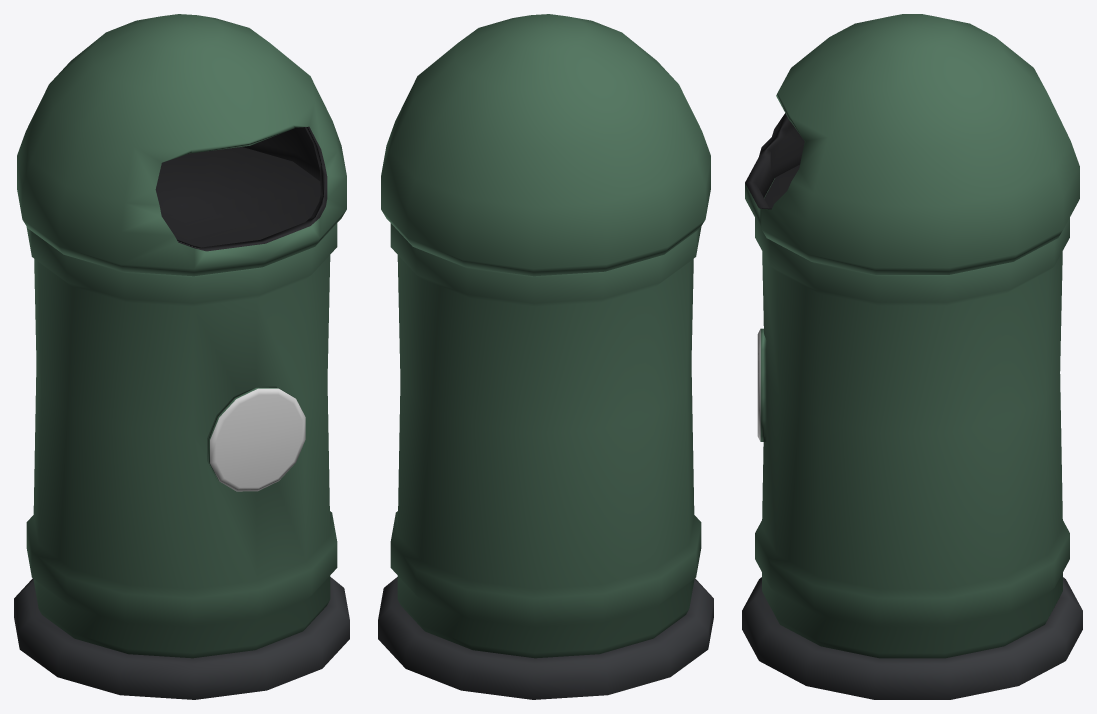
Rendered from Bin.fbx.
The picture shows the model from 3 angles, left to right: view 1: azimuth 30°, elevation 25°; view 2: azimuth 150°, elevation 25°; view 3: azimuth 270°, elevation 25°; orthographic projection.
Visible parts, largest first — view 1: Bin; view 2: Bin; view 3: Bin.
Part boxes in pixels (x1,y1,x2,y2): Bin: (14,14,349,699); Bin: (378,14,713,699); Bin: (742,14,1082,699).
Size of the model in its own units: 0.468 by 0.936 by 0.48.
